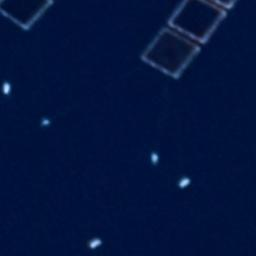square_solid: (136, 25, 203, 82), (165, 1, 230, 46), (1, 1, 53, 33)
